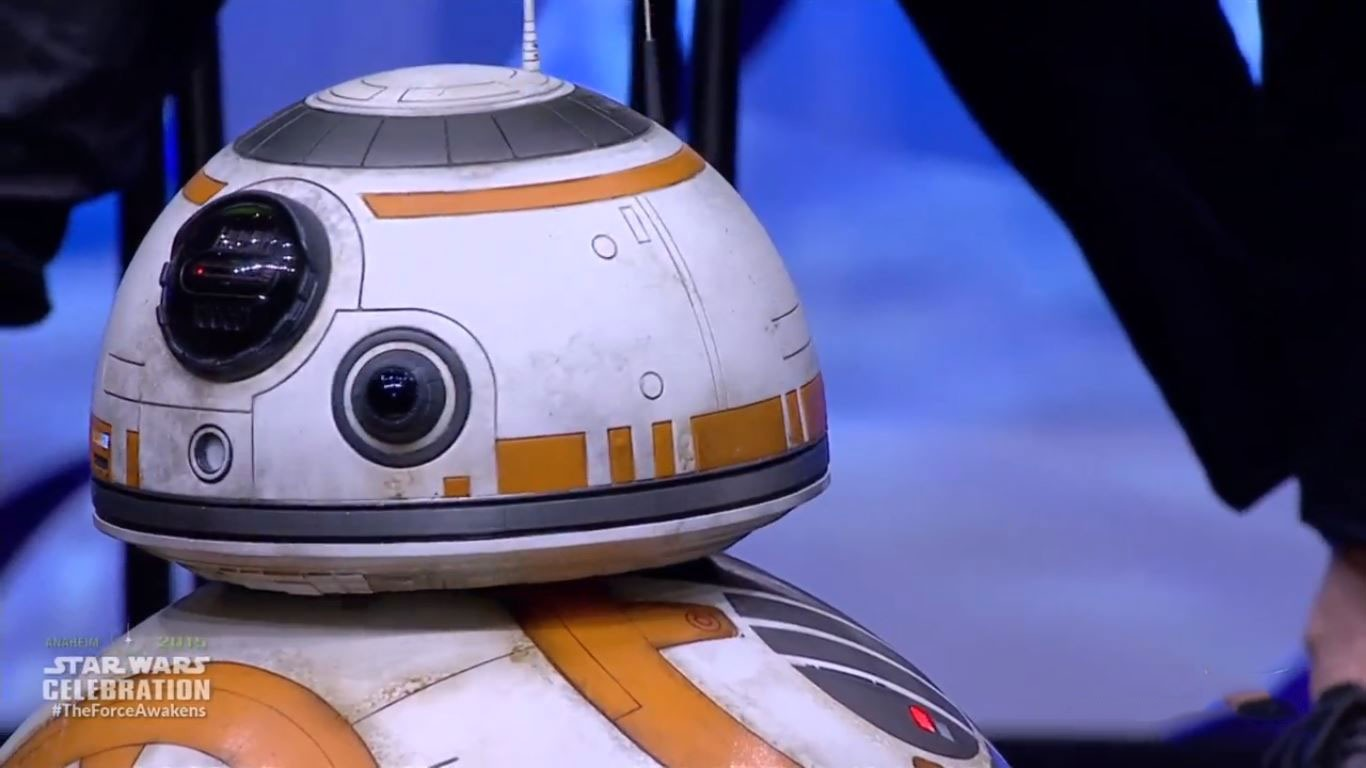bb8: (1, 63, 1010, 768)
